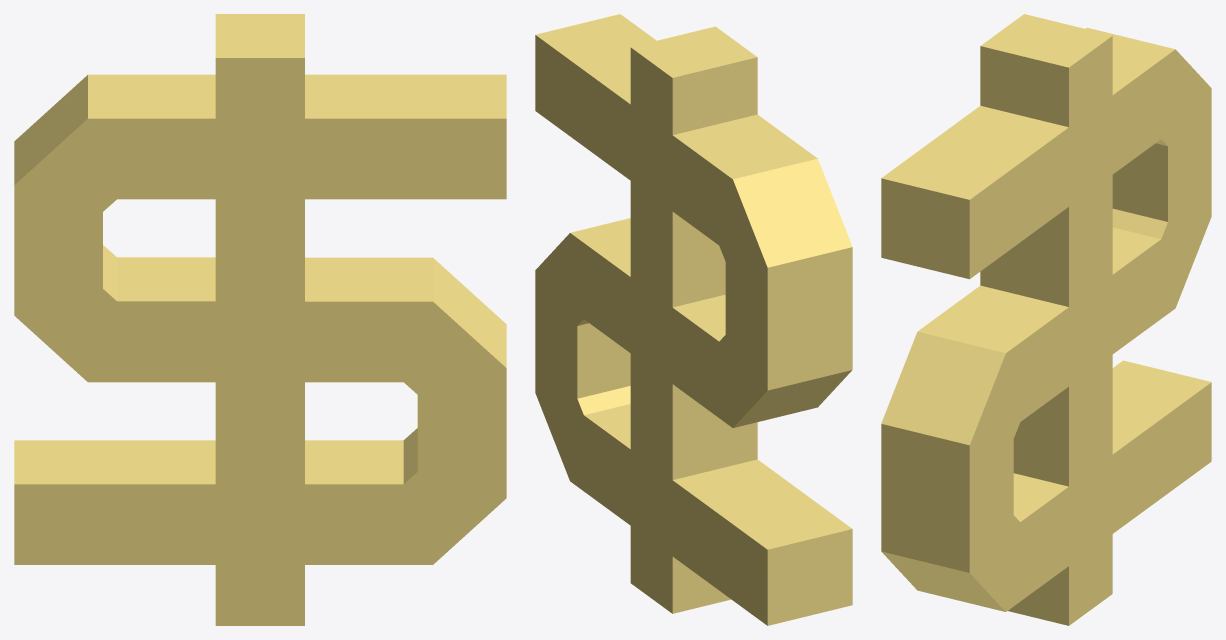
The model's file is icon3.FBX.
3 renders of one model, left to right at view 1: azimuth 30°, elevation 25°; view 2: azimuth 150°, elevation 25°; view 3: azimuth 270°, elevation 25°, orthographic. The views are drawn at different scales.
Visible parts, largest first — view 1: Layer:Layer 1; view 2: Layer:Layer 1; view 3: Layer:Layer 1.
Part boxes in pixels (x1=…): Layer:Layer 1: x1=14, y1=14, x2=506, y2=625; Layer:Layer 1: x1=535, y1=14, x2=852, y2=625; Layer:Layer 1: x1=881, y1=14, x2=1211, y2=625.
Size of the model in its own units: 3.91 by 5.12 by 2.75.
